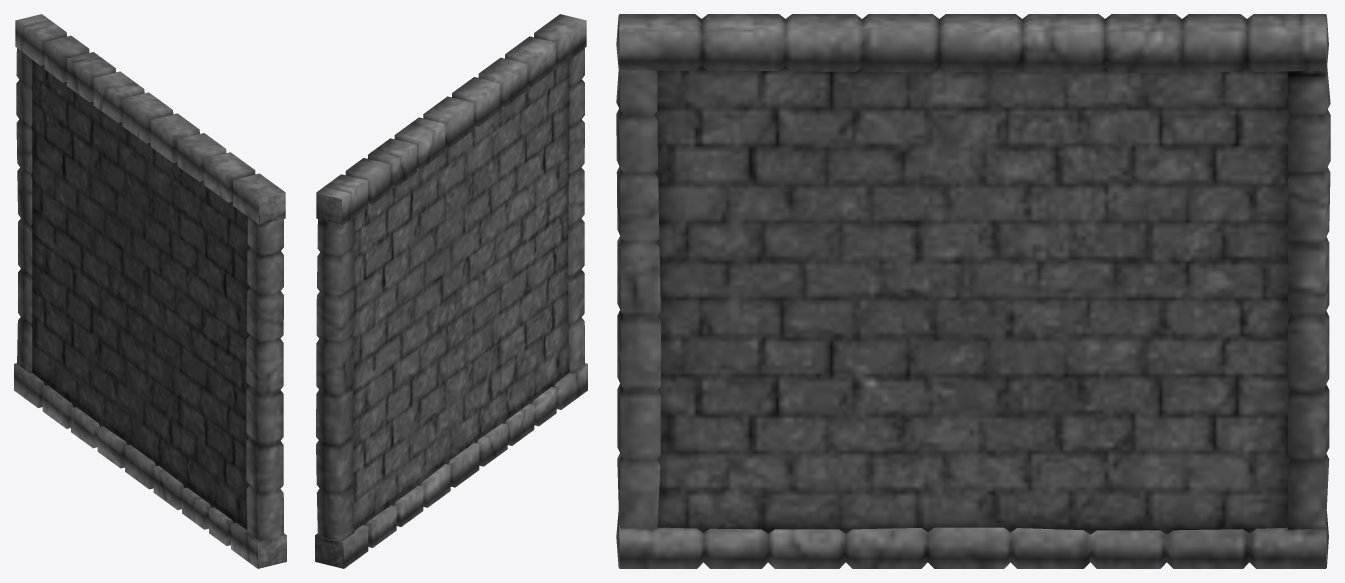
File: SM_Wall_Stone_2f1e27.glb
3 renders of one model, left to right at view 1: azimuth 30°, elevation 25°; view 2: azimuth 150°, elevation 25°; view 3: azimuth 270°, elevation 25°, orthographic. The views are drawn at different scales.
Bounding box in the file's own units: 0.2742 × 3.33 × 4.03.
1 material, 1 textured.
